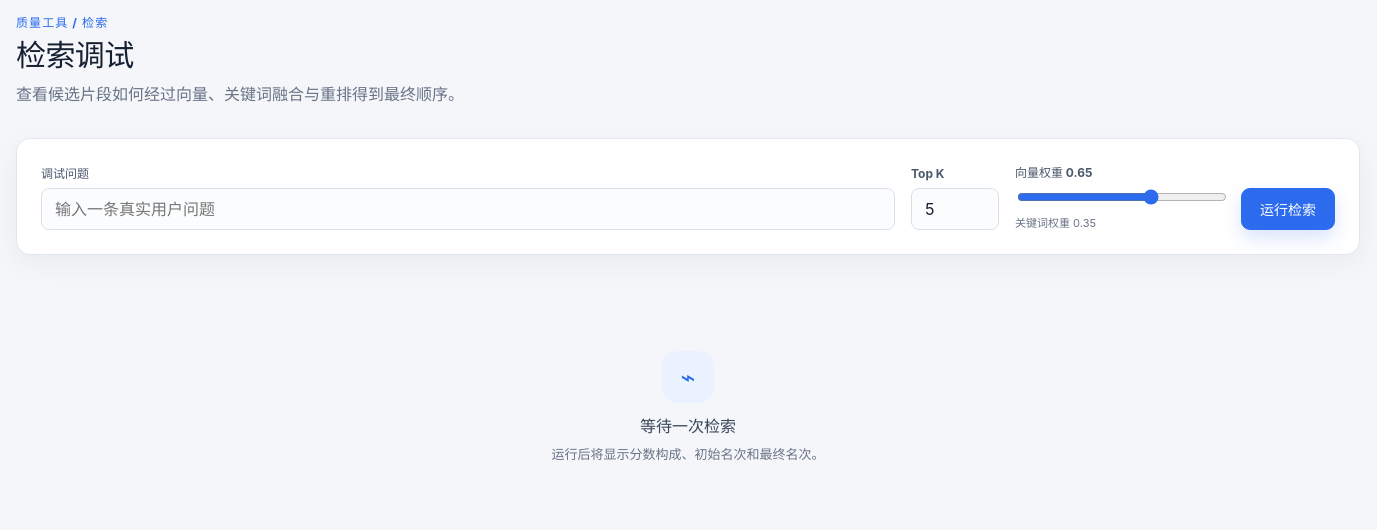
it: shows retrieval scores and rank changes
The image size is (1377, 530).
Type "退款多久" into the field labelled "调试问题". click: (468, 209)
box: [41,188,895,230]
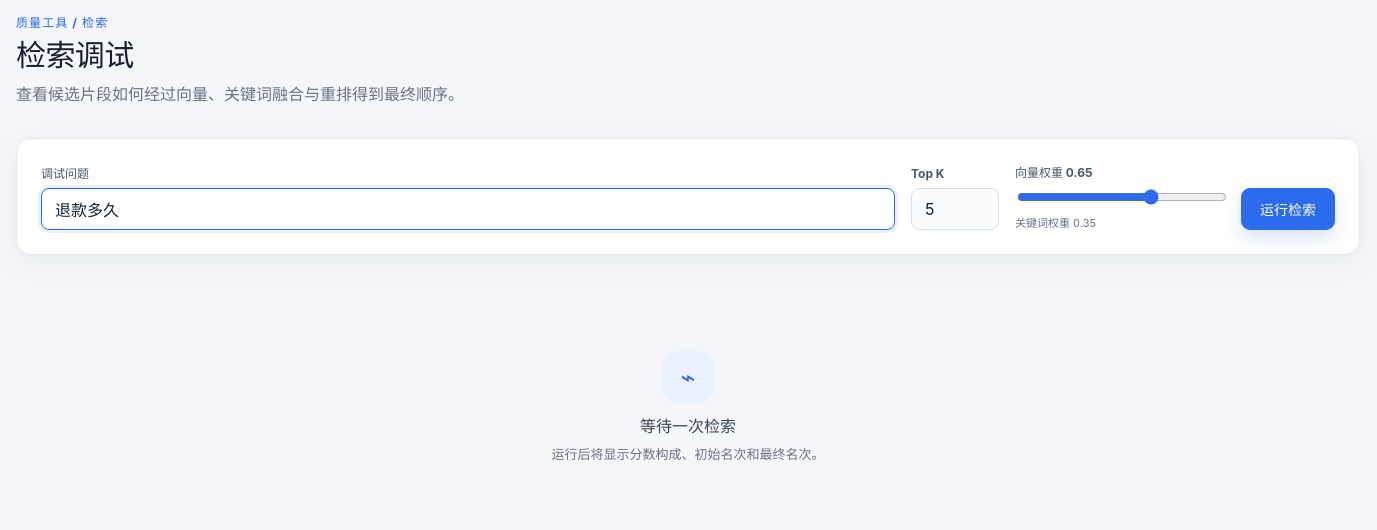
Click the button "运行检索". click: (1288, 209)
box: [1241,188,1335,230]
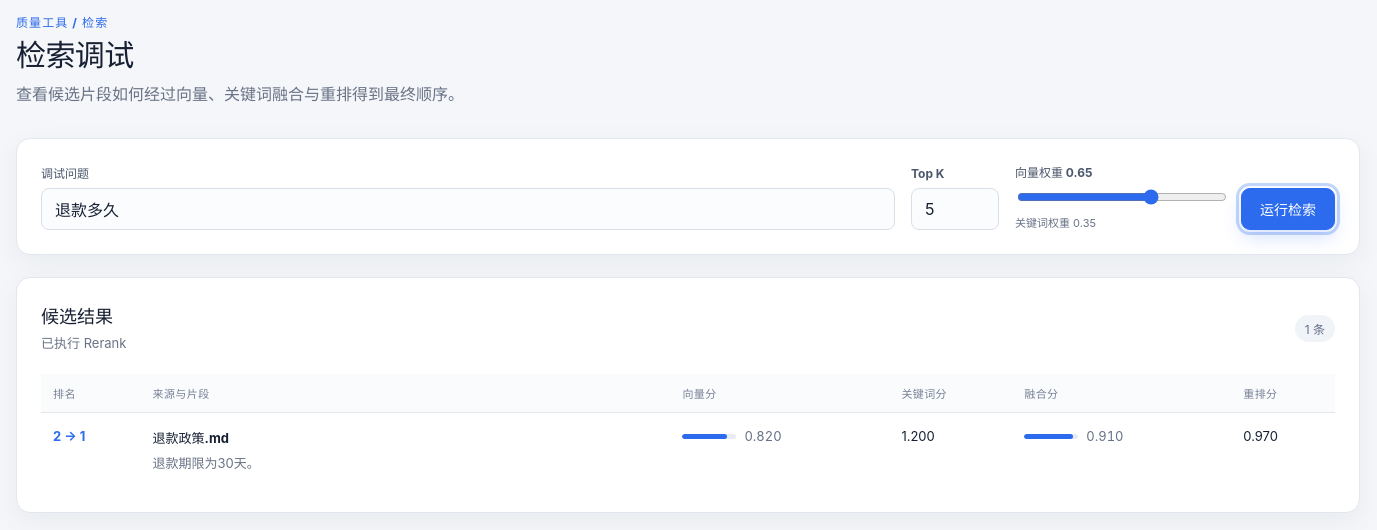
Result: the text "退款政策.md" is shown at [153,430,229,446]
Result: the text "2 → 1" is shown at [53,428,85,444]
